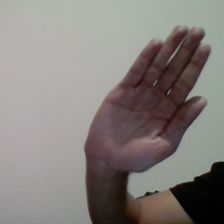left: (78, 21, 219, 173)
